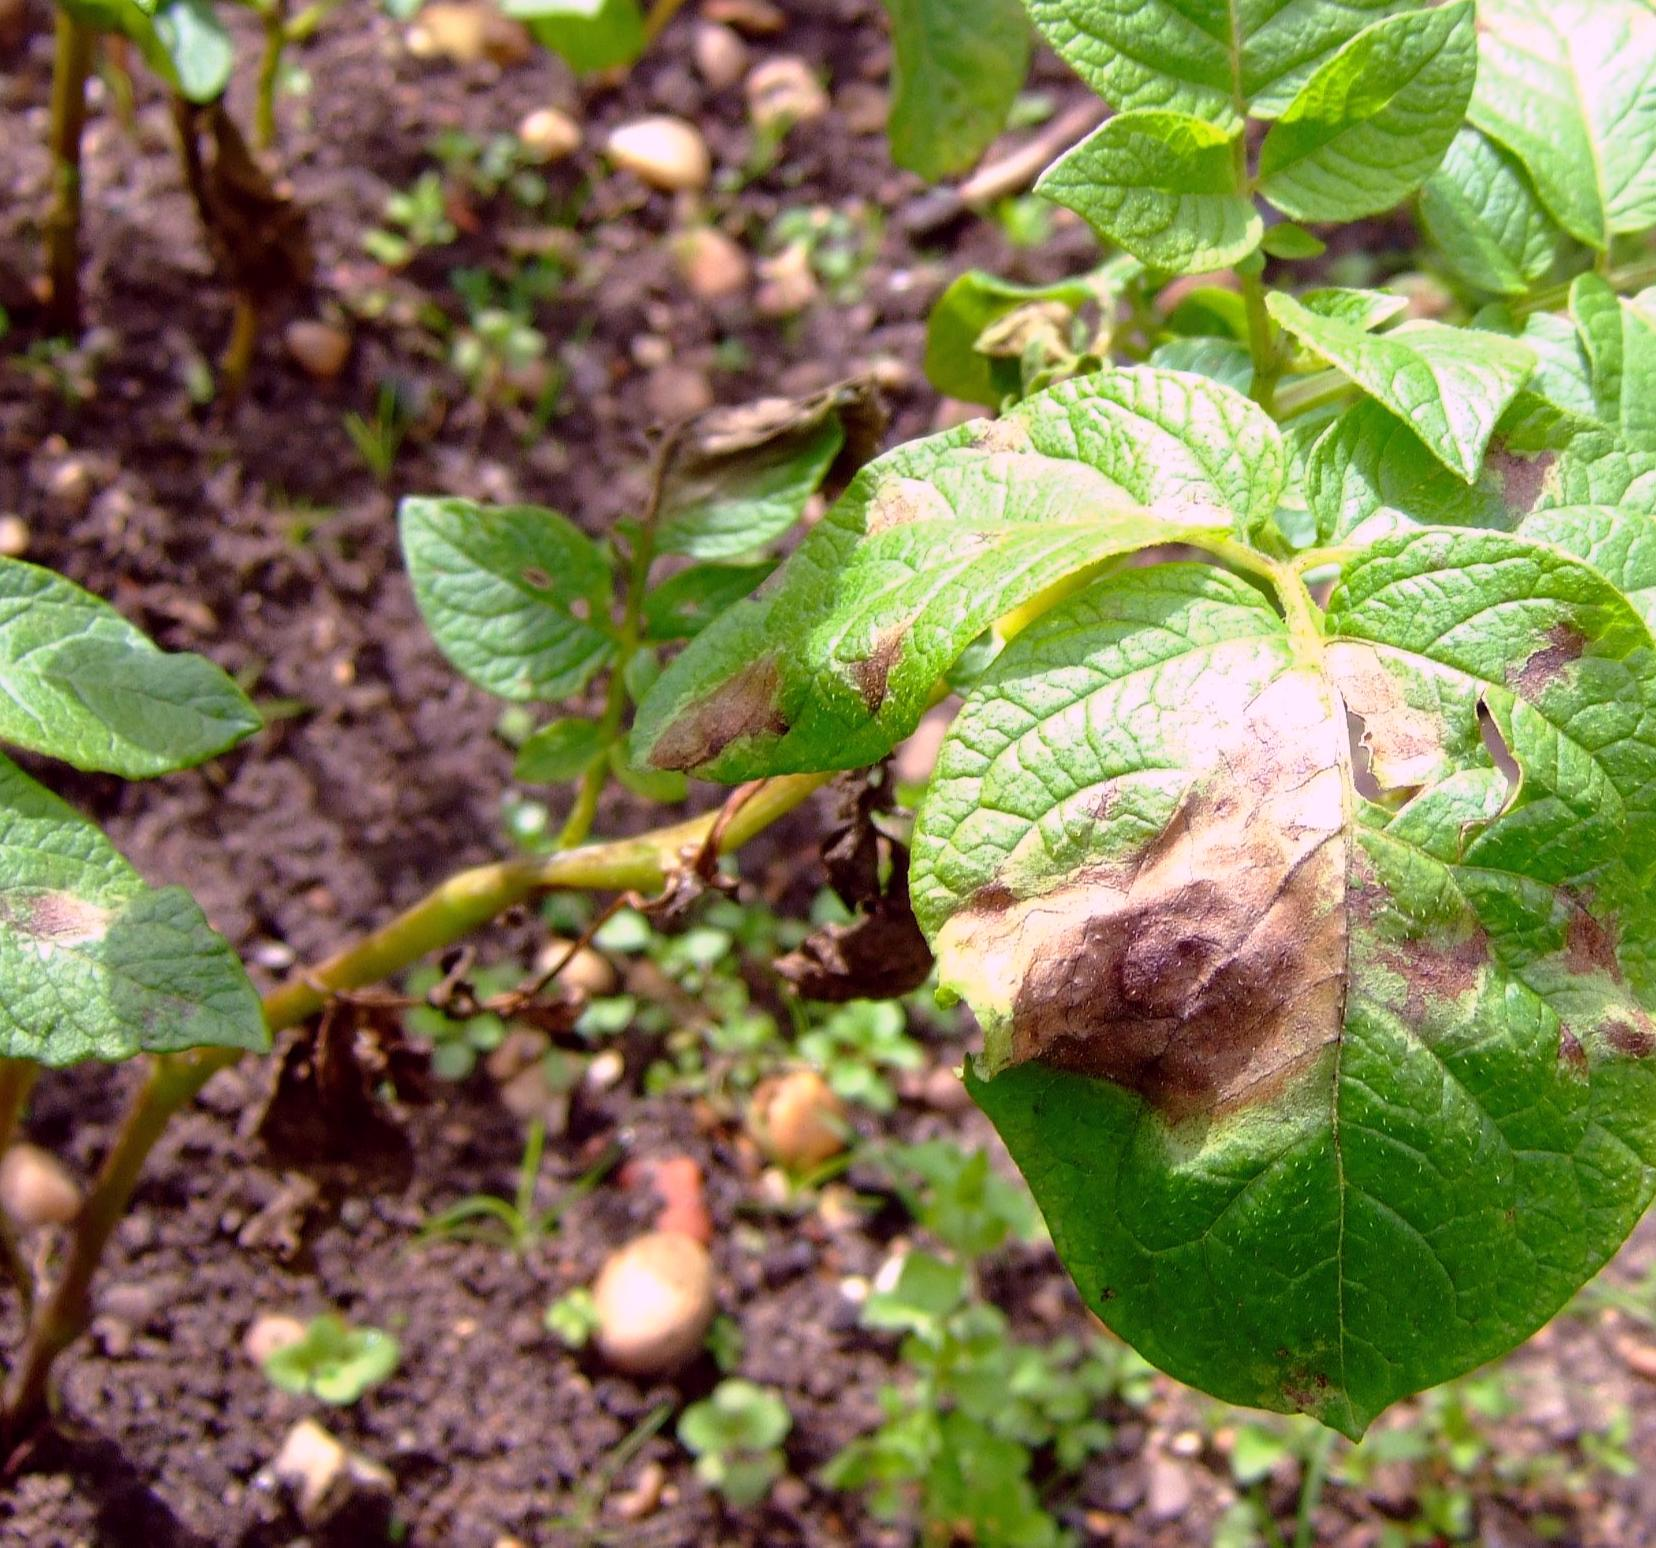Tomato leaf late blight: (909, 535, 1656, 1392)
